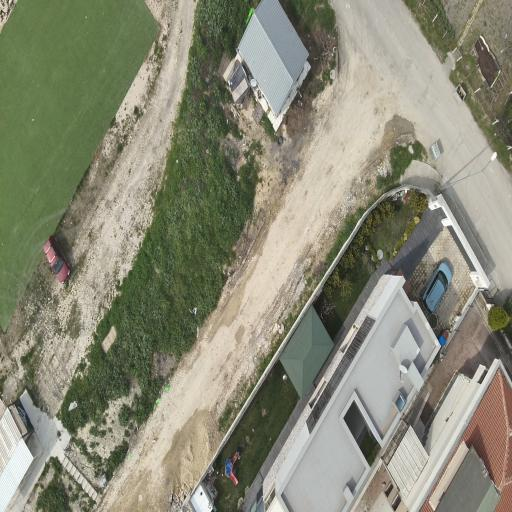car: (422, 262, 451, 312), (44, 236, 69, 283)
